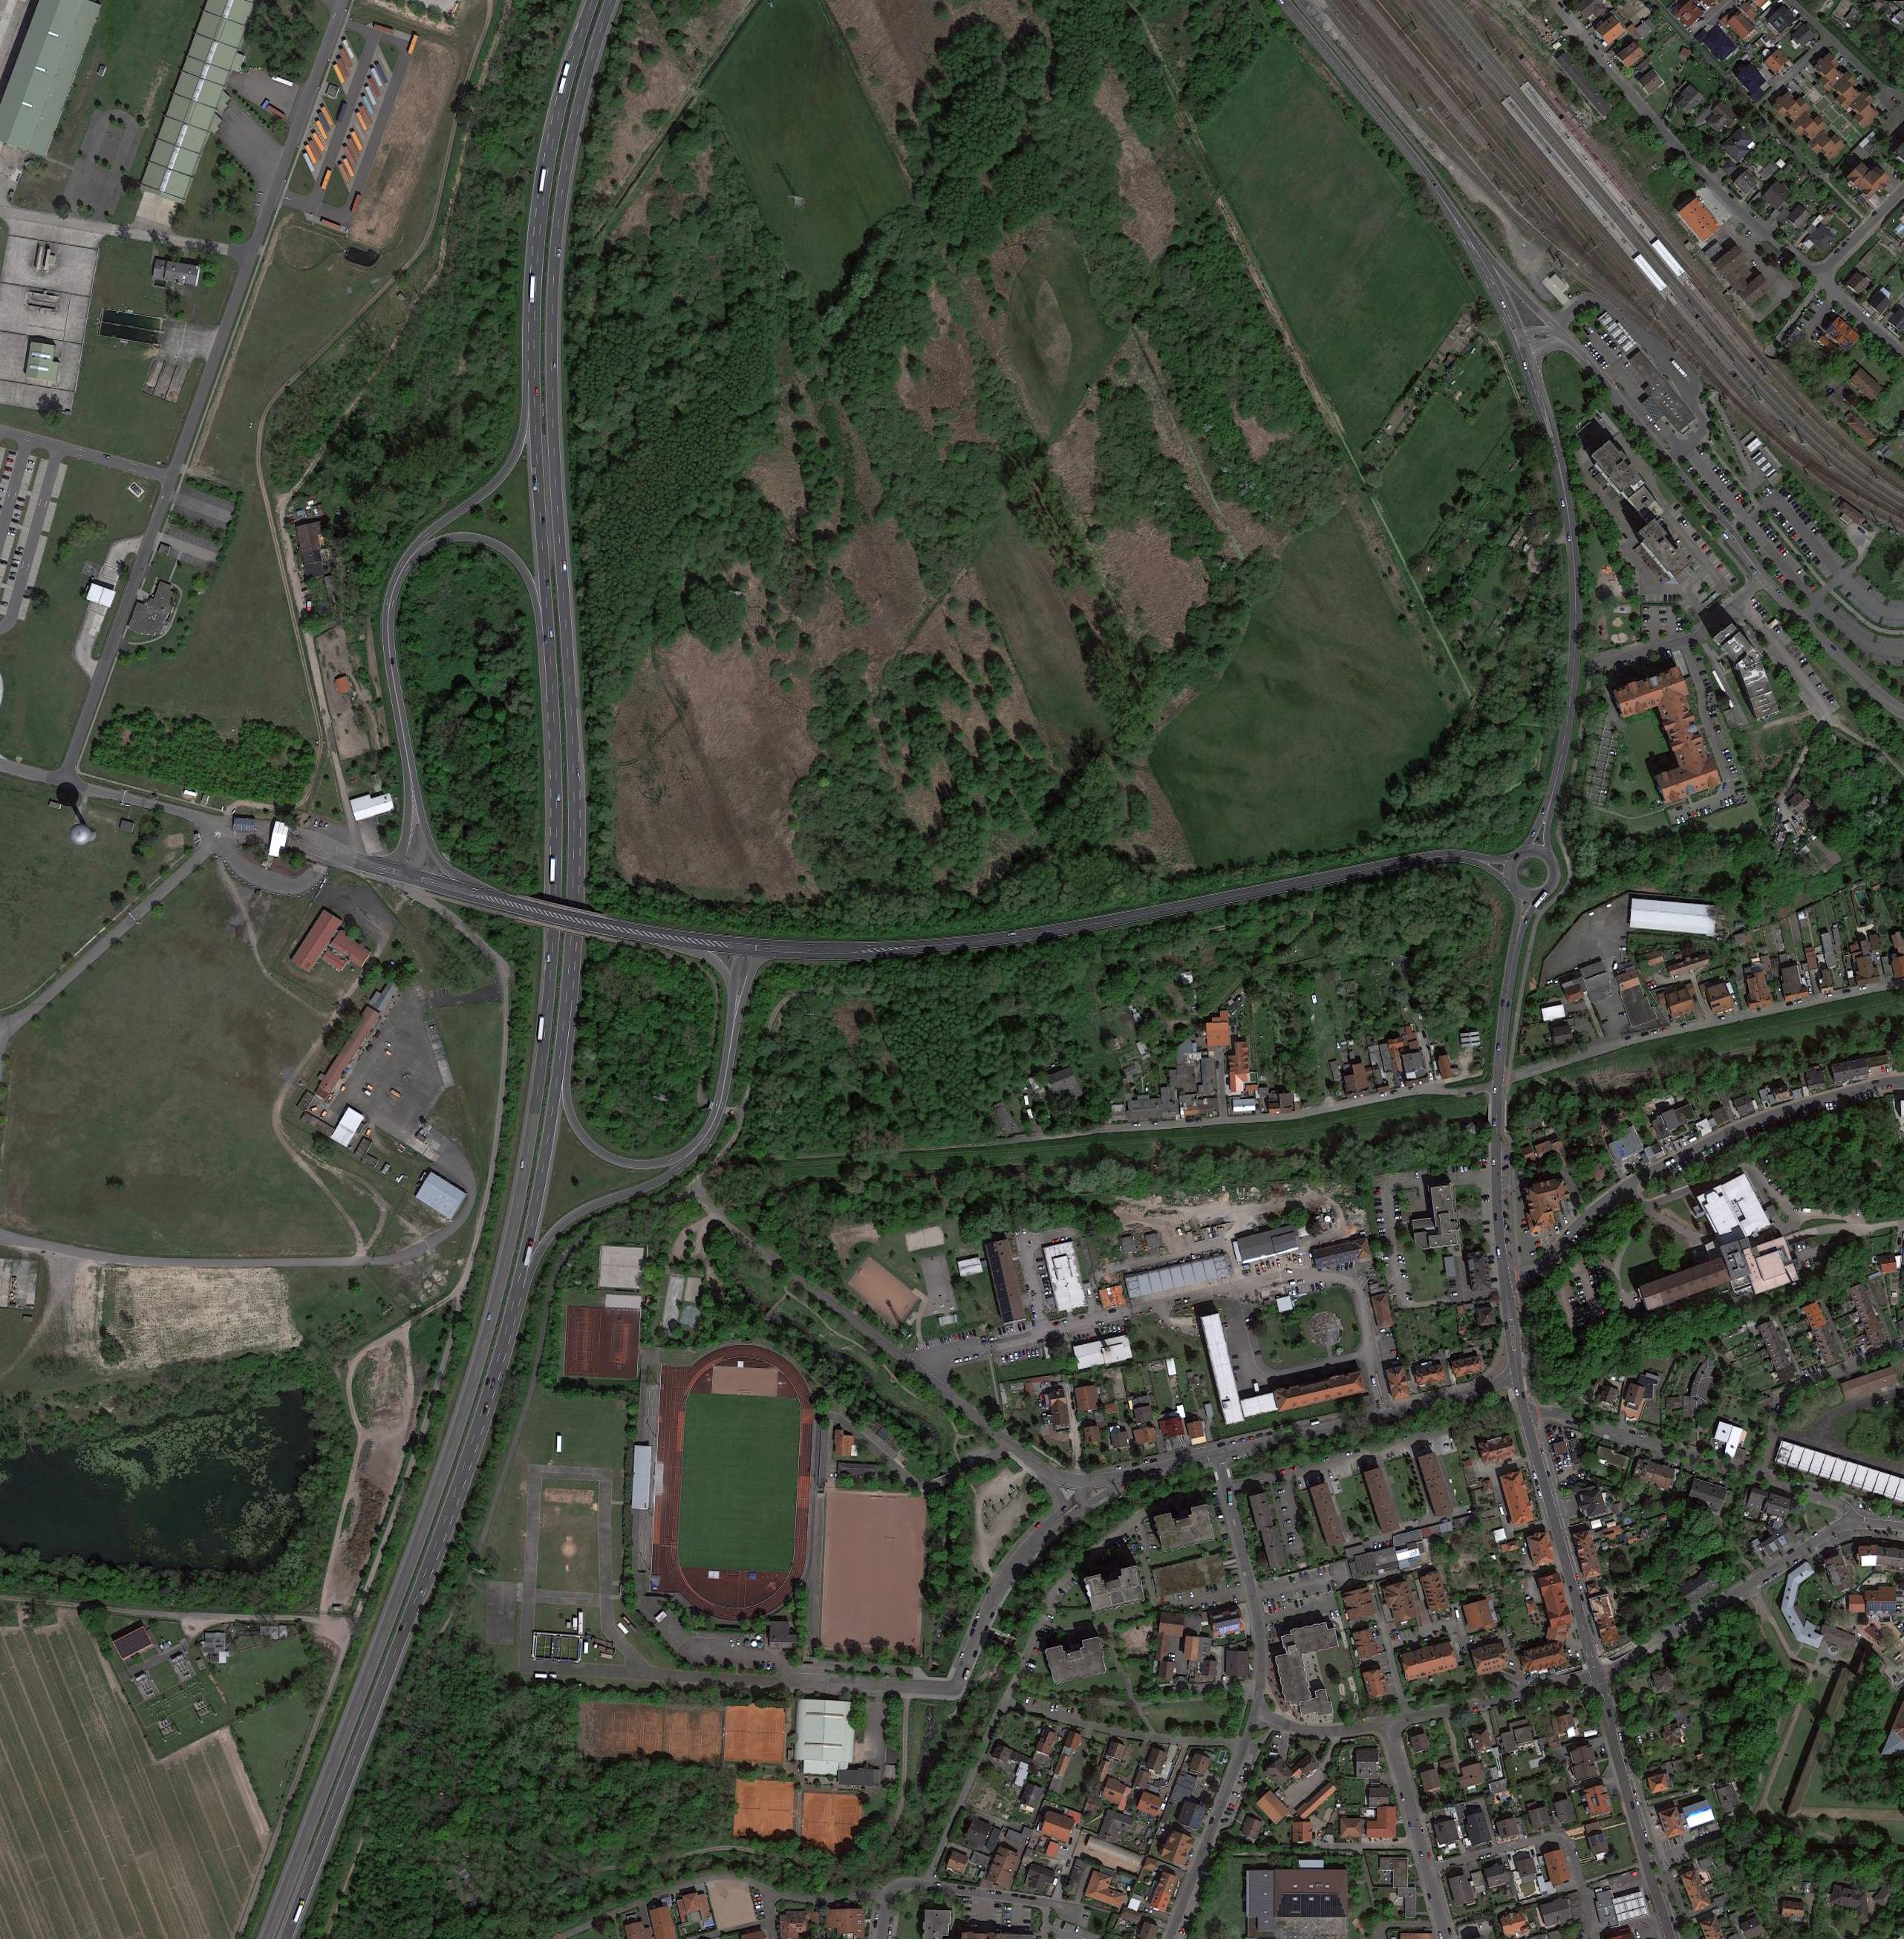ground track field: (654, 1332, 819, 1630)
roundabout: (1505, 846, 1561, 901)
soccer ball field: (680, 1393, 806, 1575), (823, 1489, 928, 1651)
